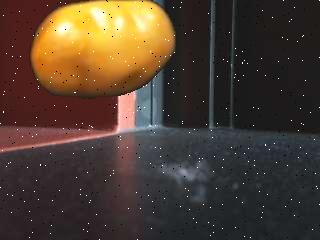Potato: (28, 1, 178, 102)
